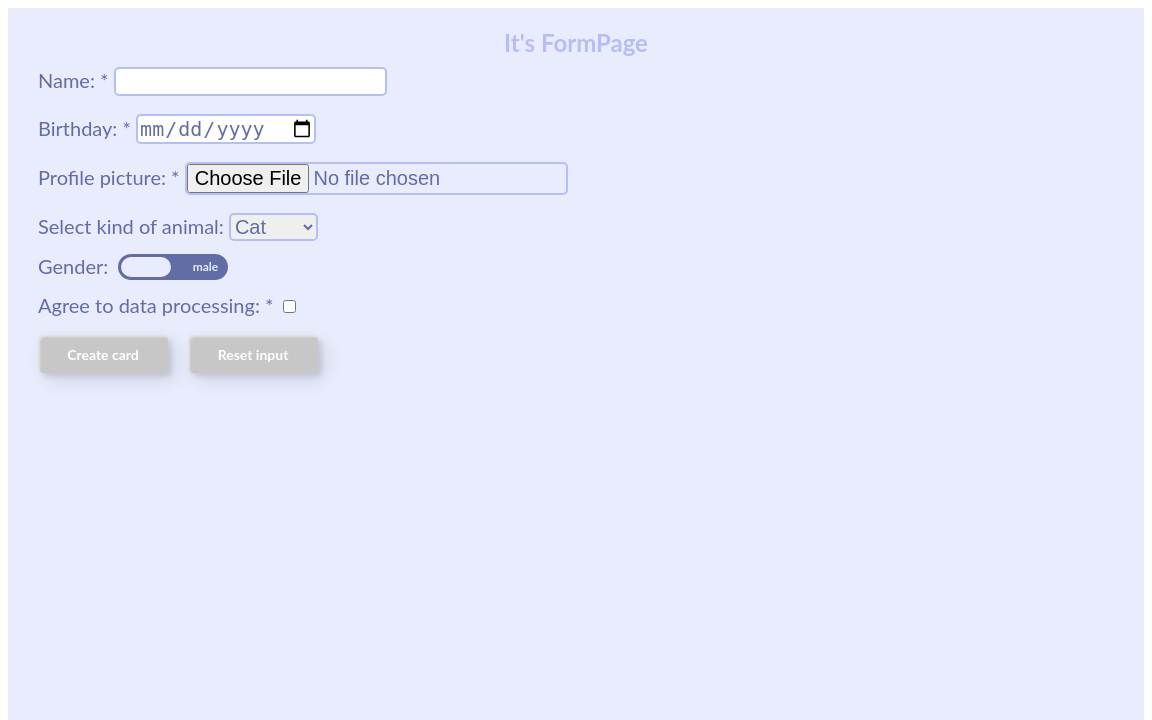
<FormInput /> › with type "date" › if the date is not valid for birthday, then render the error message
Type "2030-01-01" into the date field labelled "Birthday: *" at (226, 129), box [136,114,316,144]
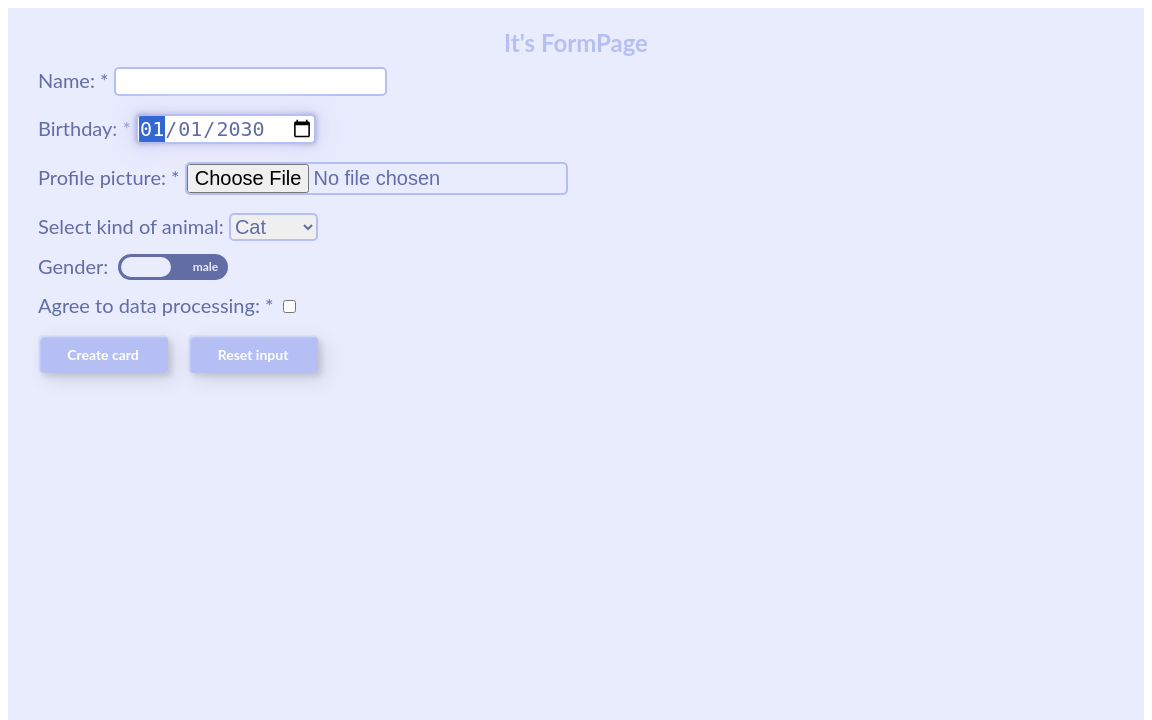
expect the text "Date must be less than today" is not shown: met
Press Enter
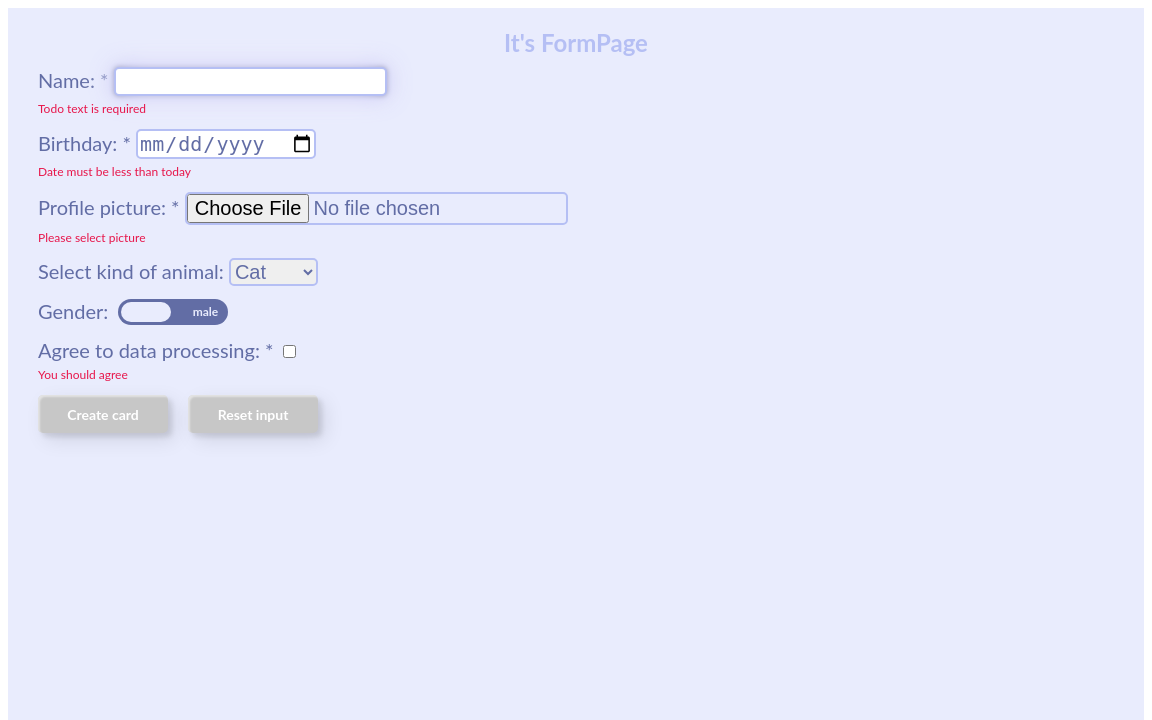
expect the text "Date must be less than today" is shown: met, box [38,164,191,179]
